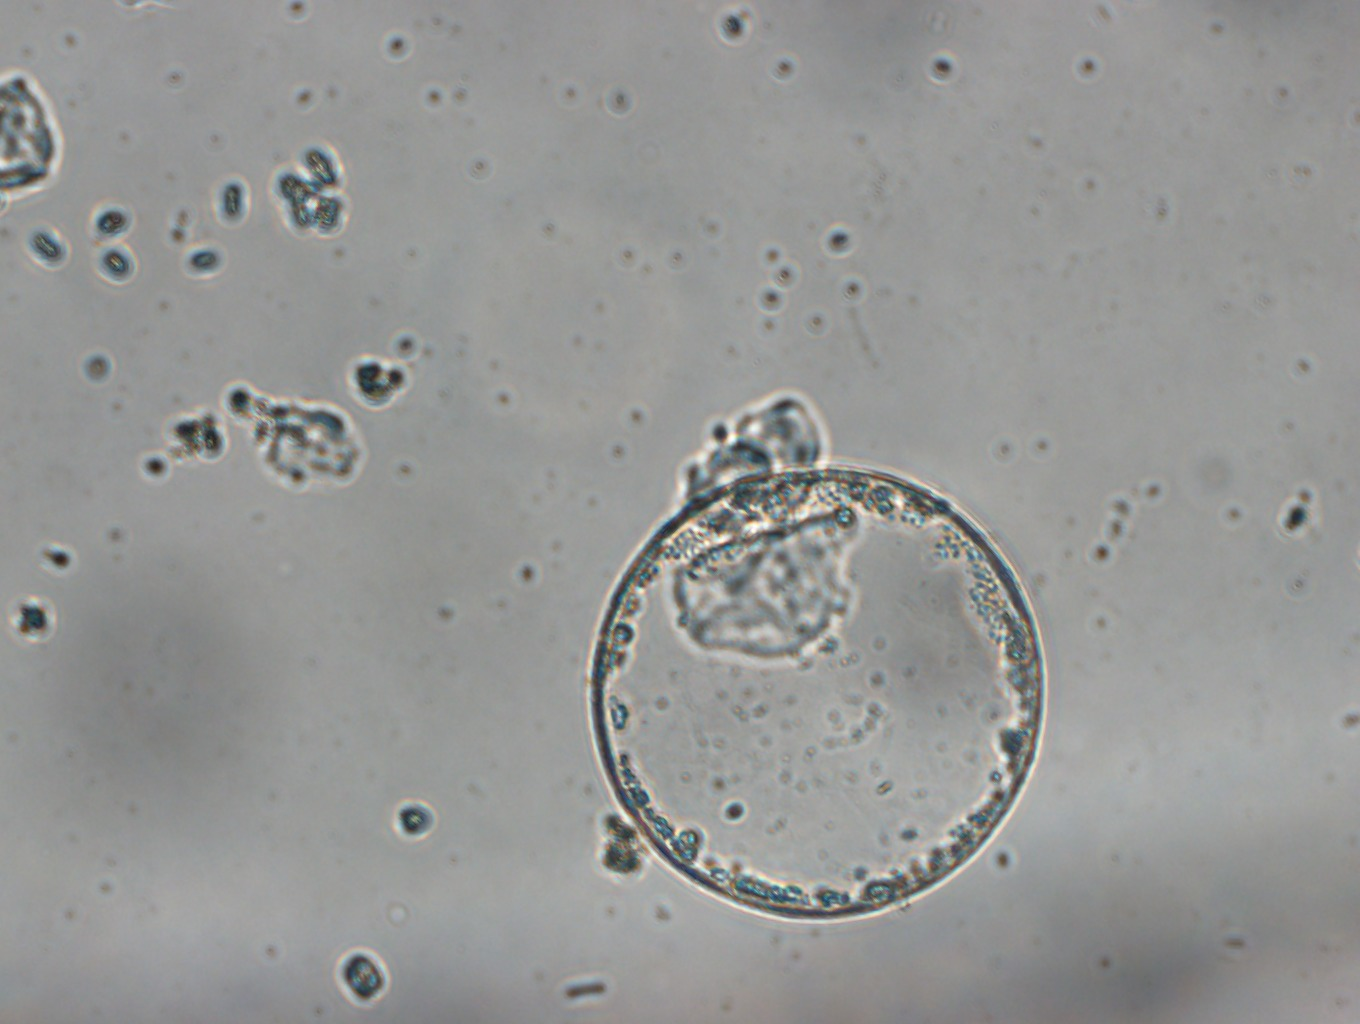coscinodiscus: (576, 469, 1058, 926)
